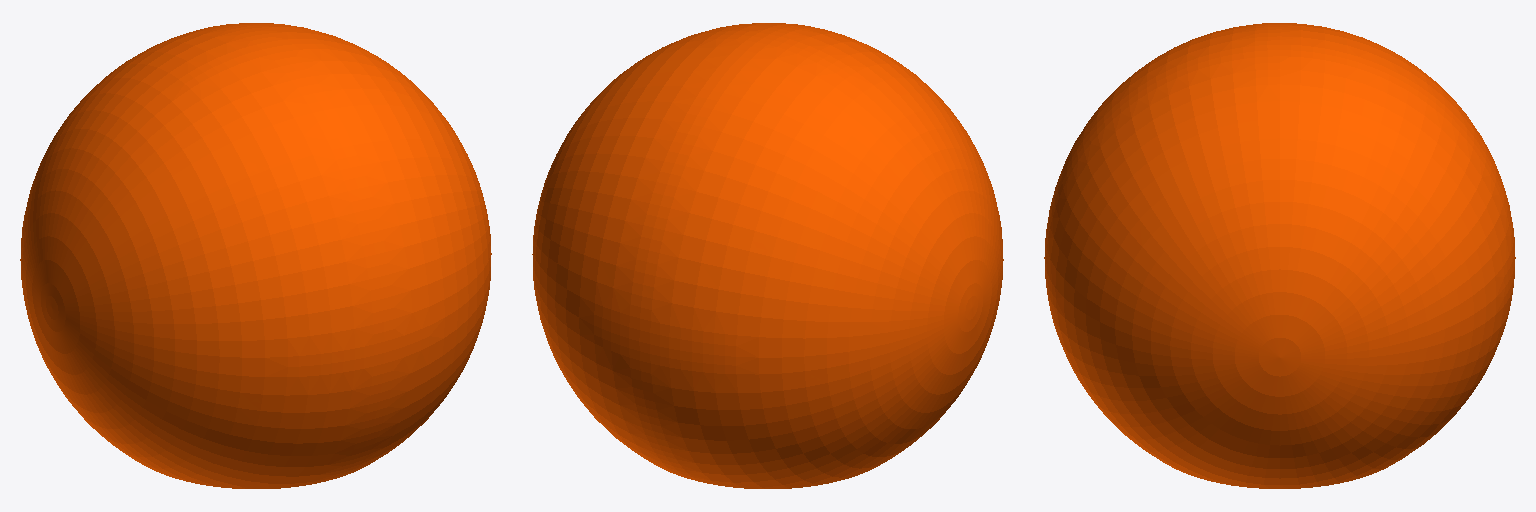
robot.urdf — spherelarge:
<?xml version="1.0" ?>
<robot name="spherelarge">
   <material name="obj_color">
      <color rgba="1.0 0.423529411765 0.0392156862745 1.0"/>
   </material>
   <link name="top">
      <inertial>
         <origin rpy="0.002036014416579483 0.002036713220840417 0.002136205239727657" xyz="1.59049219796709e-07 7.650885859068245e-07 -0.004229003196688542"/>
         <mass value="1.559630196583947"/>
         <inertia ixx="0.002036014434395415" ixy="3.502508462526657e-09" ixz="-5.090934340005791e-09" iyy="0.00203671320339873" iyz="3.391006895613824e-09" izz="0.00213620523935341"/>
      </inertial>
      <visual>
         <origin rpy="0 0 0" xyz="0 0 0"/>
         <geometry>
            <mesh filename="top_watertight_tiny.stl" scale="1 1 1"/>
         </geometry>
         <material name="obj_color"/>
      </visual>
      <collision>
         <origin rpy="0 0 0" xyz="0 0 0"/>
         <geometry>
            <mesh filename="top_watertight_tiny.obj" scale="1 1 1"/>
         </geometry>
      </collision>
   </link>
   <link name="bottom">
      <inertial>
         <origin rpy="1.633333333194242e-08 1.633333333194243e-08 1.633333333357667e-08" xyz="0.3464080000000008 0.3464080000000008 0.3464080000000008"/>
         <mass value="0.0009800000000000017"/>
         <inertia ixx="1.633333333248717e-08" ixy="5.447480642029219e-19" ixz="5.447480642029219e-19" iyy="1.633333333248717e-08" iyz="5.447480642029219e-19" izz="1.633333333248717e-08"/>
      </inertial>
      <visual>
         <origin rpy="0 0 0" xyz="0 0 0"/>
         <geometry>
            <mesh filename="bottom_watertight_tiny.stl" scale="1 1 1"/>
         </geometry>
         <material name="obj_color"/>
      </visual>
   </link>
   <joint name="rotation" type="revolute">
      <origin xyz="0 0 0"/>
      <axis xyz="0 0 -1"/>
      <parent link="bottom"/>
      <child link="top"/>
      <dynamics damping="1.0" friction="1.0"/>
      <limit effort="0.1" velocity="0.1" lower="0" upper="0.001"/>
   </joint>
</robot>

--- Facts derived from the render (not from the file) ---
The picture shows the robot from 3 angles, left to right: view 1: azimuth 30°, elevation 25°; view 2: azimuth 150°, elevation 25°; view 3: azimuth 270°, elevation 25°; orthographic projection.
Model spherelarge with 2 links and 1 joints (1 revolute), rooted at bottom, posed all joints at 0.
Visible links, largest first — view 1: top; view 2: top; view 3: top.
Link boxes in pixels (x1,y1,x2,y2): top: (20, 23, 491, 488); top: (532, 23, 1003, 488); top: (1044, 23, 1515, 488).
Size in the robot's own frame: 0.1161 by 0.1161 by 0.105 metres.
1 mesh visuals loaded from 2 distinct referenced files (1 binary STL); not drawn: 1 (reference not matched to a file when rendering).
